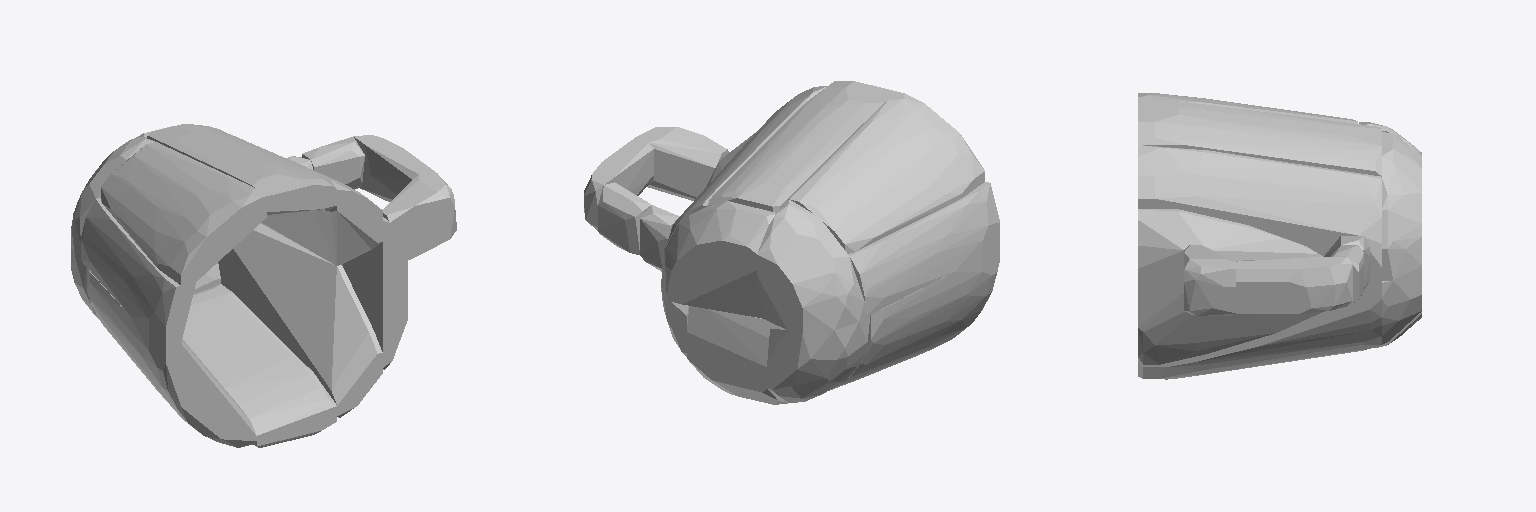
Rendered from Room_Essentials_Mug_White_Yellow_collision.obj.
3 renders of one model, left to right at view 1: azimuth 30°, elevation 25°; view 2: azimuth 150°, elevation 25°; view 3: azimuth 270°, elevation 25°, orthographic.
Visible parts, largest first — view 1: convex_7, convex_13, convex_11, convex_6, convex_12, convex_14, convex_15, convex_2, convex_0, convex_4, convex_3, convex_8 (+1 smaller); view 2: convex_13, convex_8, convex_12, convex_14, convex_9, convex_6, convex_10, convex_5, convex_0, convex_4, convex_3, convex_15 (+2 smaller); view 3: convex_15, convex_2, convex_14, convex_7, convex_4, convex_9, convex_0, convex_13, convex_3, convex_1.
Part boxes in pixels (x1,y1,x2,y2): convex_7: (218,223,382,417); convex_13: (101,142,266,285); convex_11: (182,284,336,447); convex_6: (87,268,256,447); convex_12: (81,198,195,346); convex_14: (147,124,336,214); convex_15: (235,136,382,265); convex_2: (342,217,407,369); convex_0: (383,171,456,260); convex_4: (354,135,433,201); convex_3: (302,136,364,189); convex_8: (71,137,154,259); convex_13: (789,92,984,253); convex_8: (757,200,864,333); convex_12: (848,182,999,317); convex_14: (707,81,898,212); convex_9: (661,201,775,318); convex_6: (829,244,999,390); convex_10: (687,306,787,404); convex_5: (767,315,869,402); convex_0: (634,127,729,200); convex_4: (584,139,653,230); convex_3: (598,182,650,254); convex_15: (662,86,826,266); convex_15: (1138,145,1381,282); convex_2: (1138,209,1322,364); convex_14: (1138,100,1381,176); convex_7: (1138,271,1421,378); convex_4: (1236,257,1352,313); convex_9: (1382,132,1421,280); convex_0: (1184,245,1235,315); convex_13: (1138,93,1357,123); convex_3: (1330,245,1363,303); convex_1: (1324,236,1369,289).
Bounding box in the file's own units: 0.1333 × 0.1 × 0.1021.